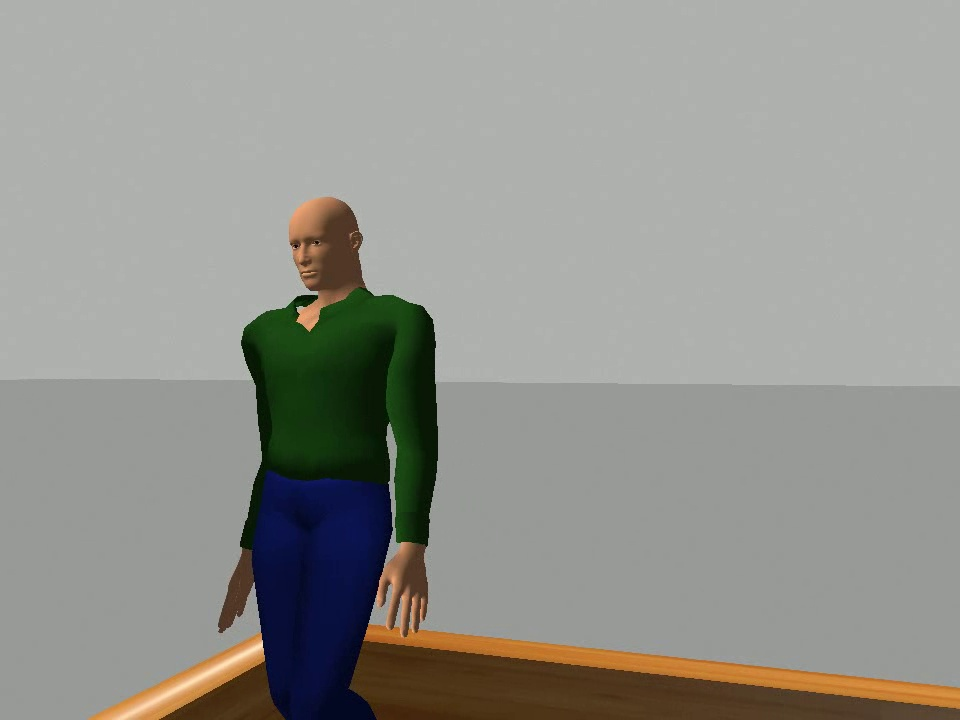person: (210, 191, 443, 720)
